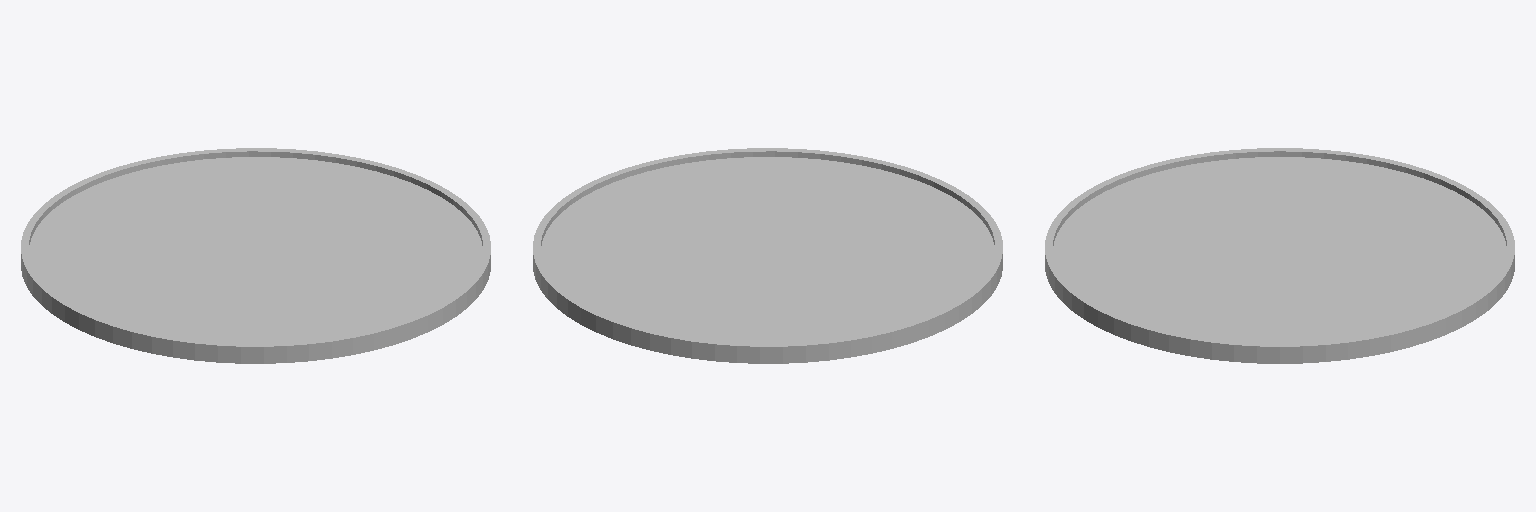
Rendered from SimpleGoldCoin.obj.
3 views of the same model, side by side, from view 1: azimuth 30°, elevation 25°; view 2: azimuth 150°, elevation 25°; view 3: azimuth 270°, elevation 25° (orthographic).
Parts seen in each view (by area): view 1: Coin64_Cylinder.002; view 2: Coin64_Cylinder.002; view 3: Coin64_Cylinder.002.
Part boxes in pixels (x1,y1,x2,y2): Coin64_Cylinder.002: (21,148,490,363); Coin64_Cylinder.002: (533,148,1002,363); Coin64_Cylinder.002: (1045,148,1514,363).
Bounding box in the file's own units: 0.05 × 0.002 × 0.05.